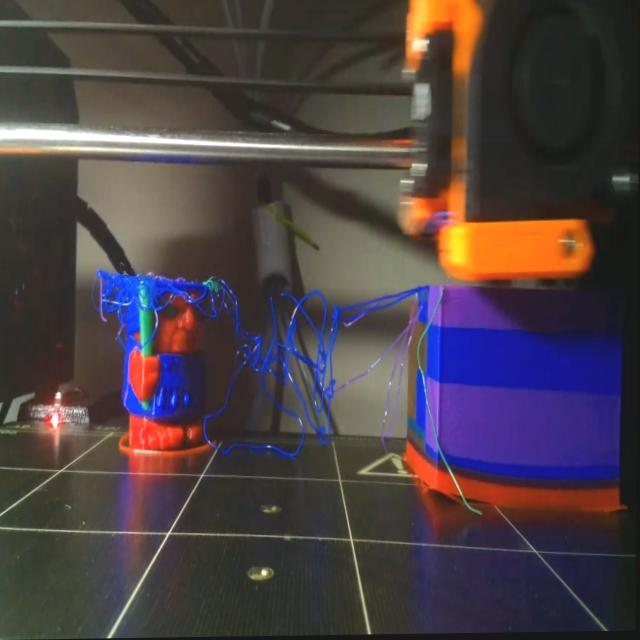spaghetti: (219, 227, 405, 516), (84, 242, 212, 350)
